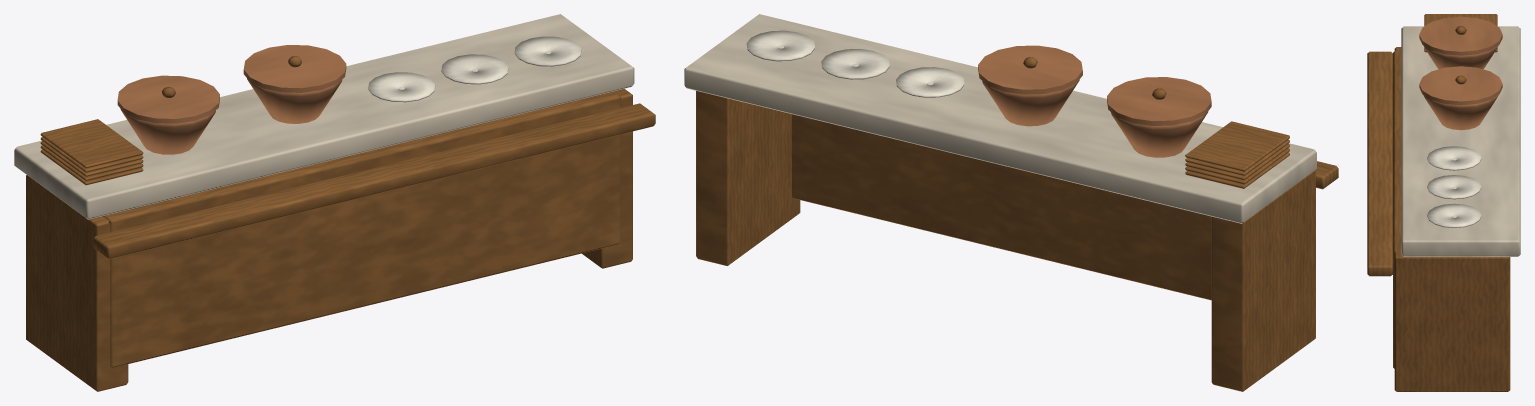
File: Furn_ServingCounter.fbx
3 renders of one model, left to right at view 1: azimuth 30°, elevation 25°; view 2: azimuth 150°, elevation 25°; view 3: azimuth 270°, elevation 25°, orthographic. The views are drawn at different scales.
Parts seen in each view (by area): view 1: Furn_ServingCounter_Mesh; view 2: Furn_ServingCounter_Mesh; view 3: Furn_ServingCounter_Mesh.
Boxes of the visible parts, x1,y1,x2,y2 form: Furn_ServingCounter_Mesh: (14,14,655,391); Furn_ServingCounter_Mesh: (684,14,1338,391); Furn_ServingCounter_Mesh: (1367,14,1520,391).
Size of the model in its own units: 3 by 1.3 by 0.9.
